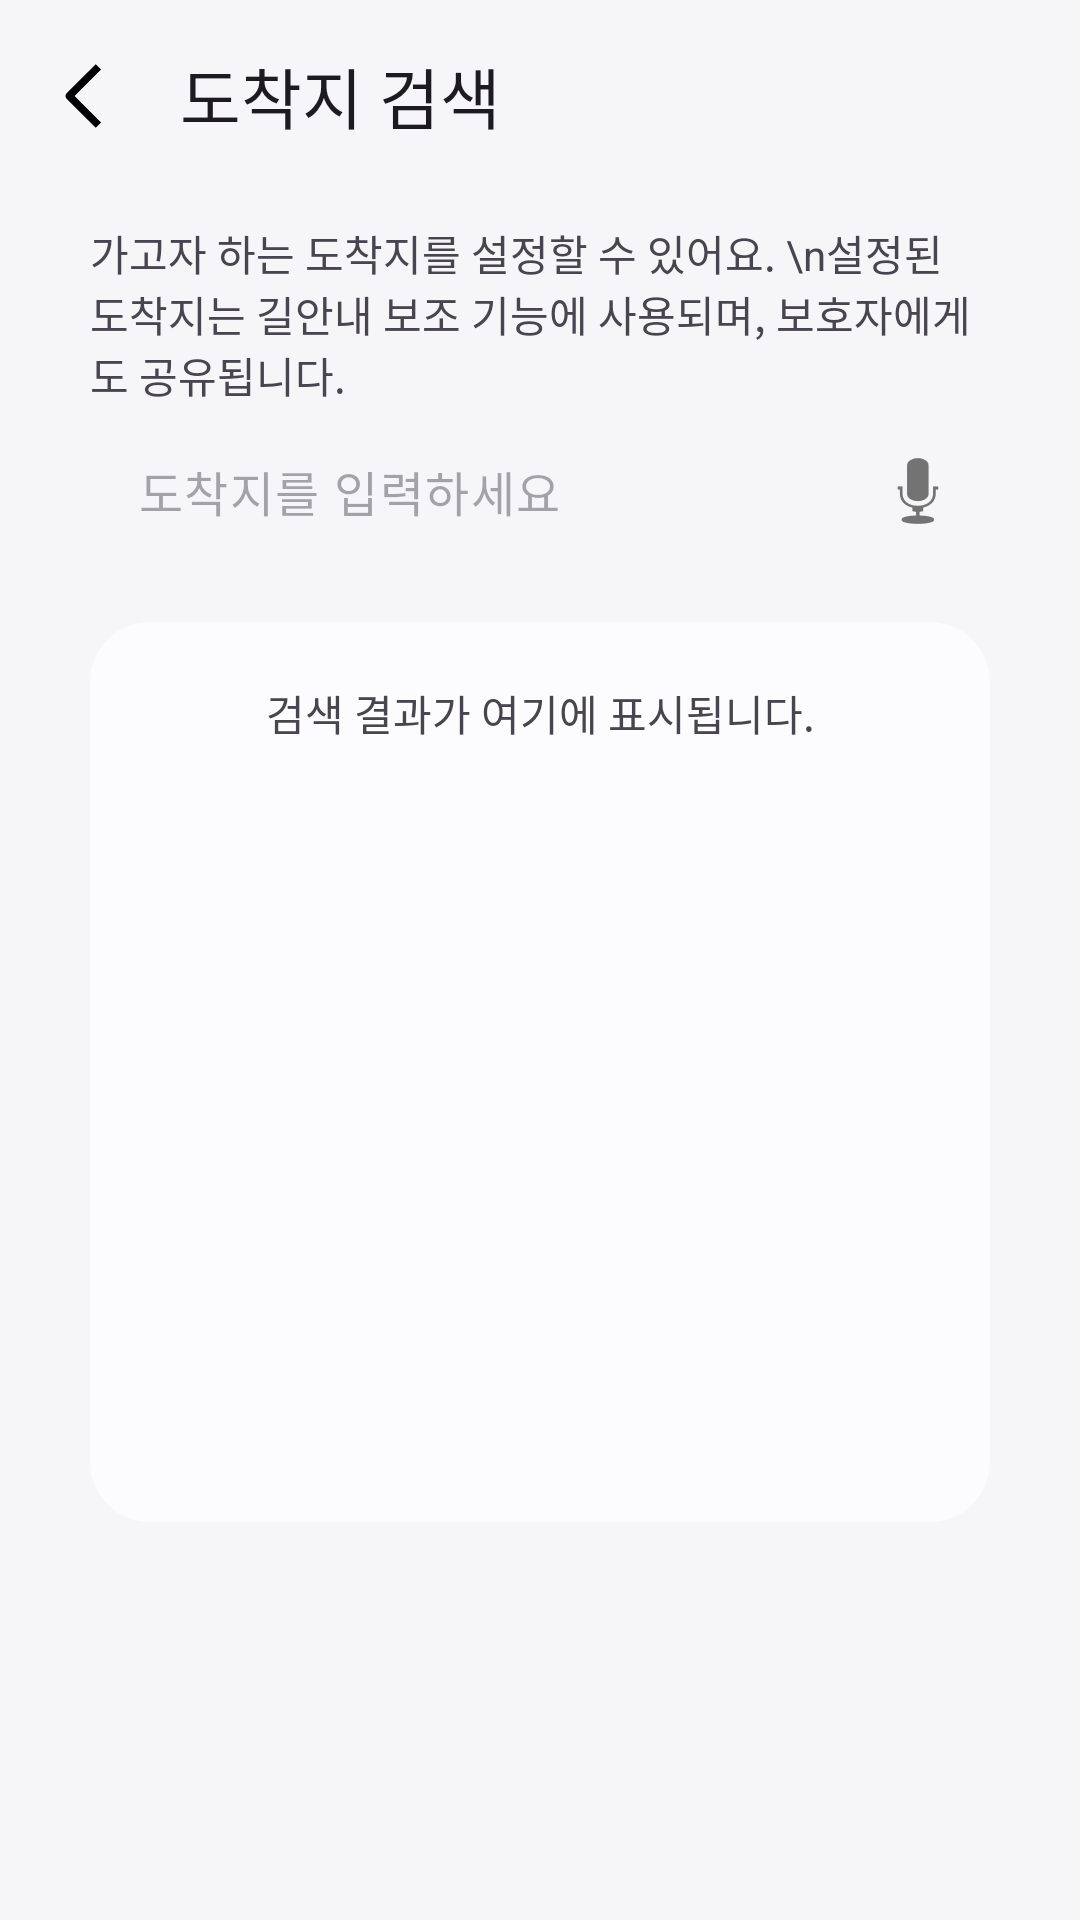

Where icons sit on this 1080×1920 app screen, as (x1, y1, x2, y2):
음성 인식: (897, 458, 939, 524)
